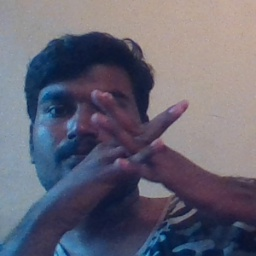W: (73, 80, 207, 197)
